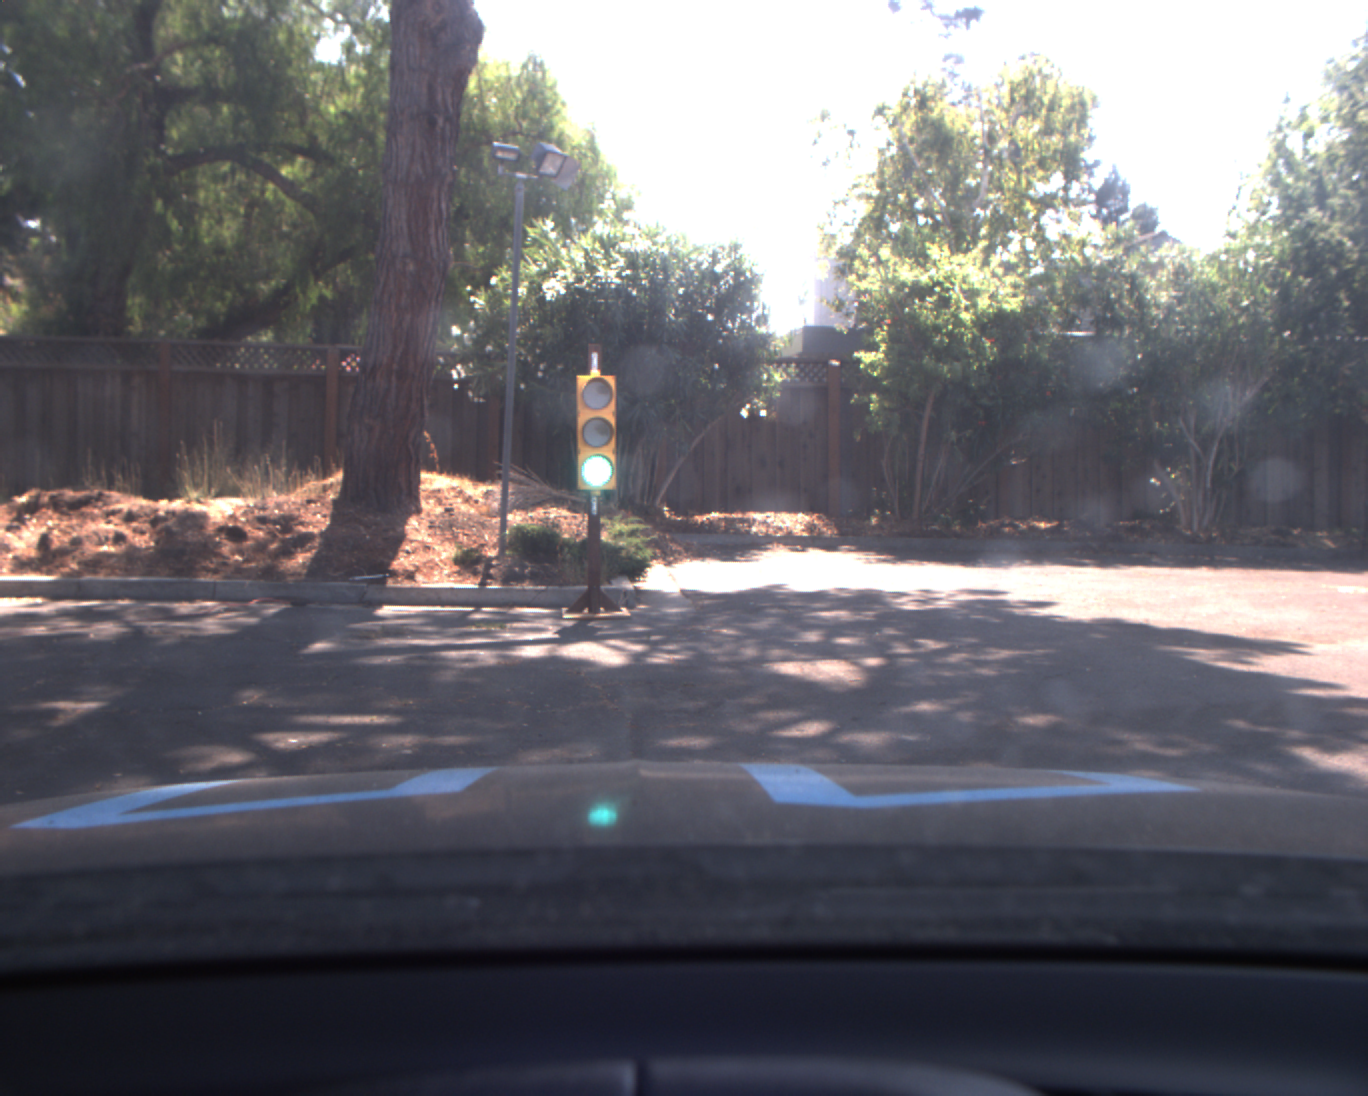green: (572, 367, 619, 493)
